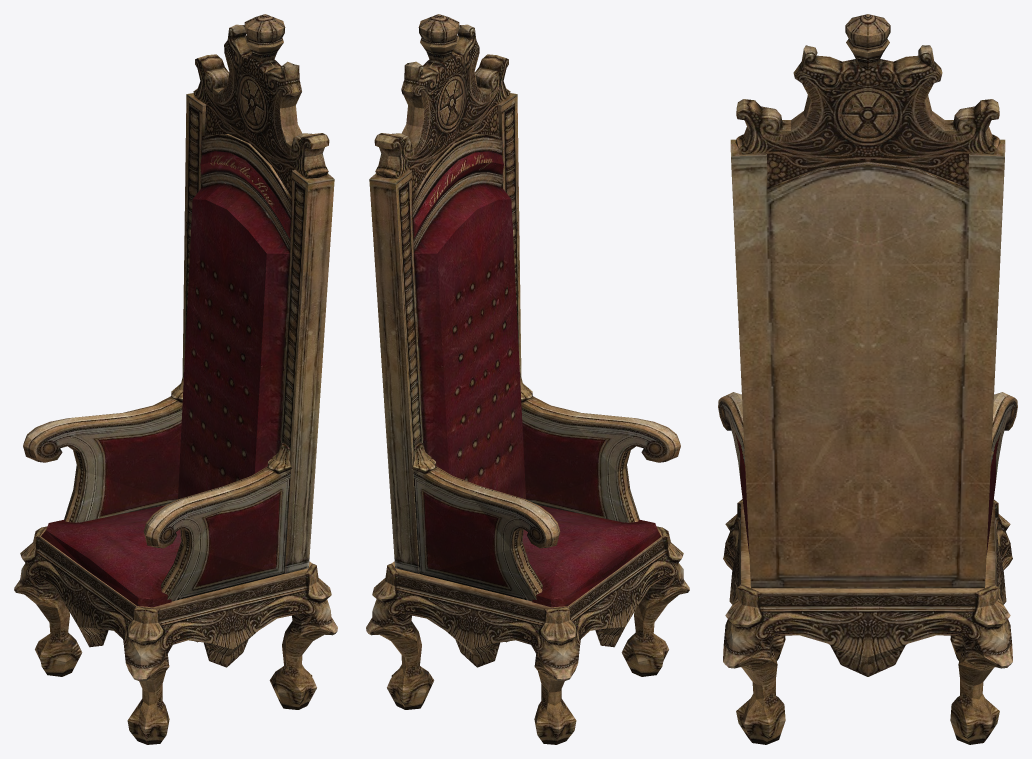
The model's file is TQ0EUH1EZENHMHC4IE1OEAE3S.fbx.
3 views of the same model, side by side, from view 1: azimuth 30°, elevation 25°; view 2: azimuth 150°, elevation 25°; view 3: azimuth 270°, elevation 25° (orthographic). The views are drawn at different scales.
Visible parts, largest first — view 1: Object_Duke_Throne_D.jpg; view 2: Object_Duke_Throne_D.jpg; view 3: Object_Duke_Throne_D.jpg.
Boxes of the visible parts, x1,y1,x2,y2 form: Object_Duke_Throne_D.jpg: (14,14,337,744); Object_Duke_Throne_D.jpg: (366,14,689,744); Object_Duke_Throne_D.jpg: (718,14,1017,744).
Size of the model in its own units: 0.8413 by 2.5 by 0.9257.
1 material, 1 textured.
